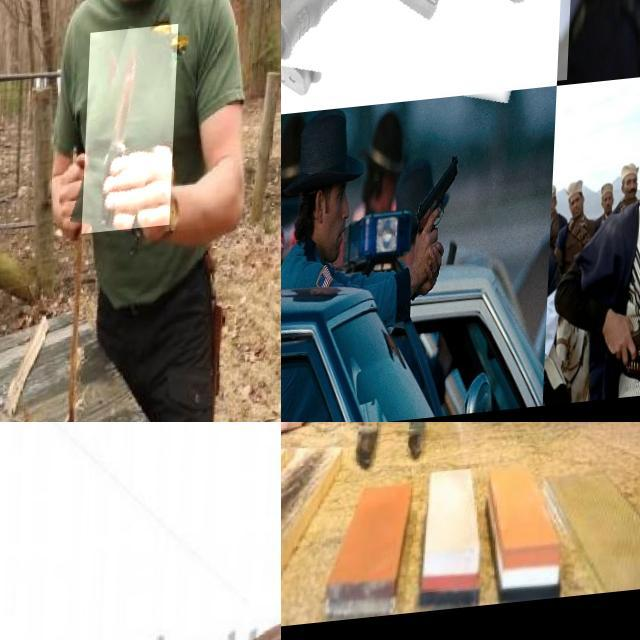-: (85, 31, 180, 239), (454, 422, 540, 532)
gun-knife-thesis - v11 Yolov5 augmented: (281, 0, 581, 157), (414, 158, 462, 290), (608, 294, 640, 391)
